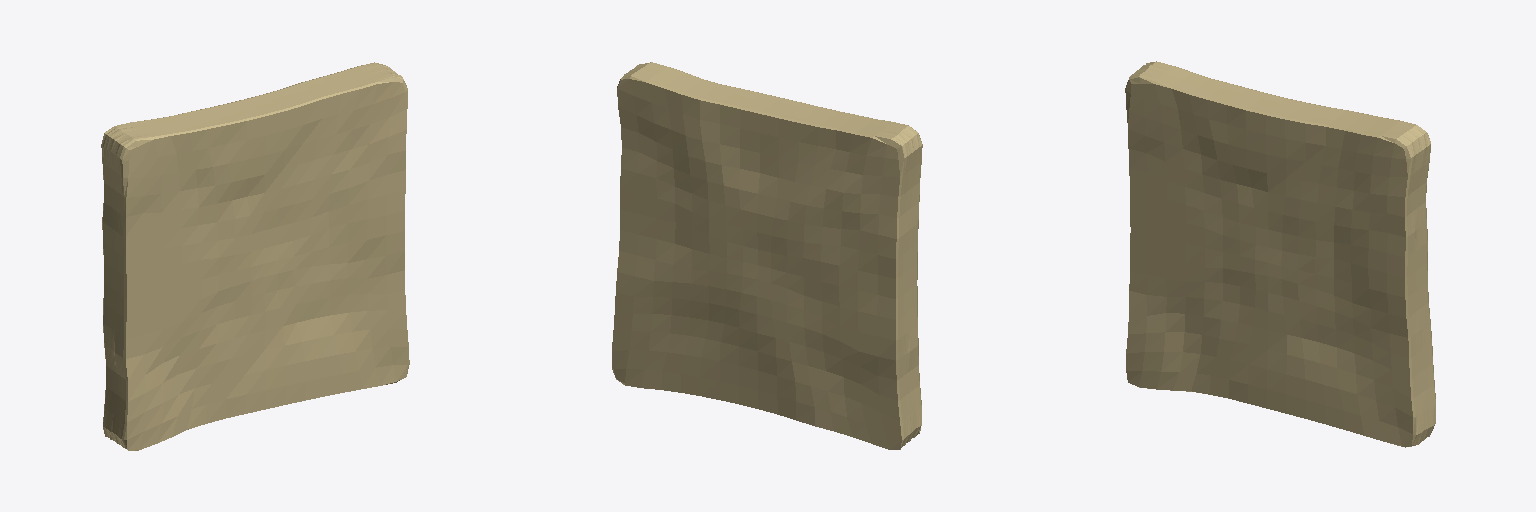
The picture shows the model from 3 angles: view 1: azimuth 30°, elevation 25°; view 2: azimuth 150°, elevation 25°; view 3: azimuth 330°, elevation 25°; orthographic projection.
Parts seen in each view (by area): view 1: Bread_Cube.001; view 2: Bread_Cube.001; view 3: Bread_Cube.001.
Part boxes in pixels (left/top/right/bottom): Bread_Cube.001: left=101, top=62, right=409, bottom=450; Bread_Cube.001: left=612, top=62, right=922, bottom=449; Bread_Cube.001: left=1125, top=61, right=1435, bottom=447.
Size of the model in its own units: 0.1409 by 0.1439 by 0.0213.
1 materials, 1 textured.